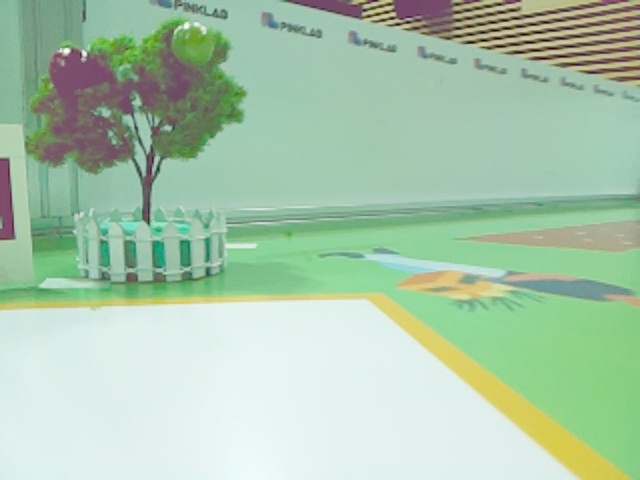apple: (42, 45, 97, 99)
